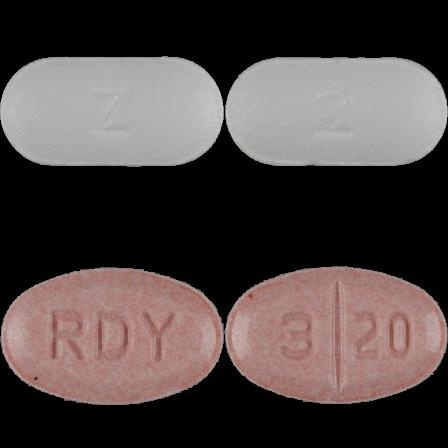21695-989: (0, 0, 224, 224)
